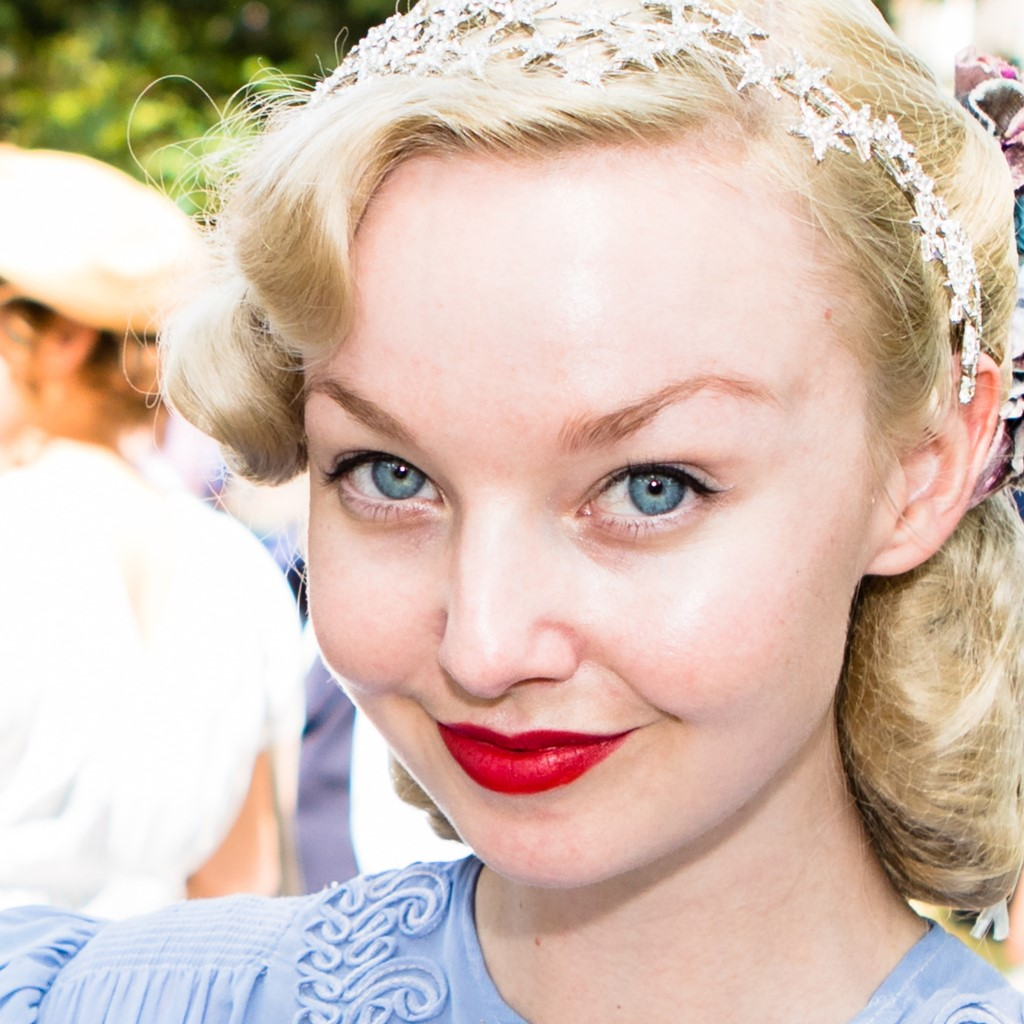sin_mascara: (268, 40, 856, 884)
